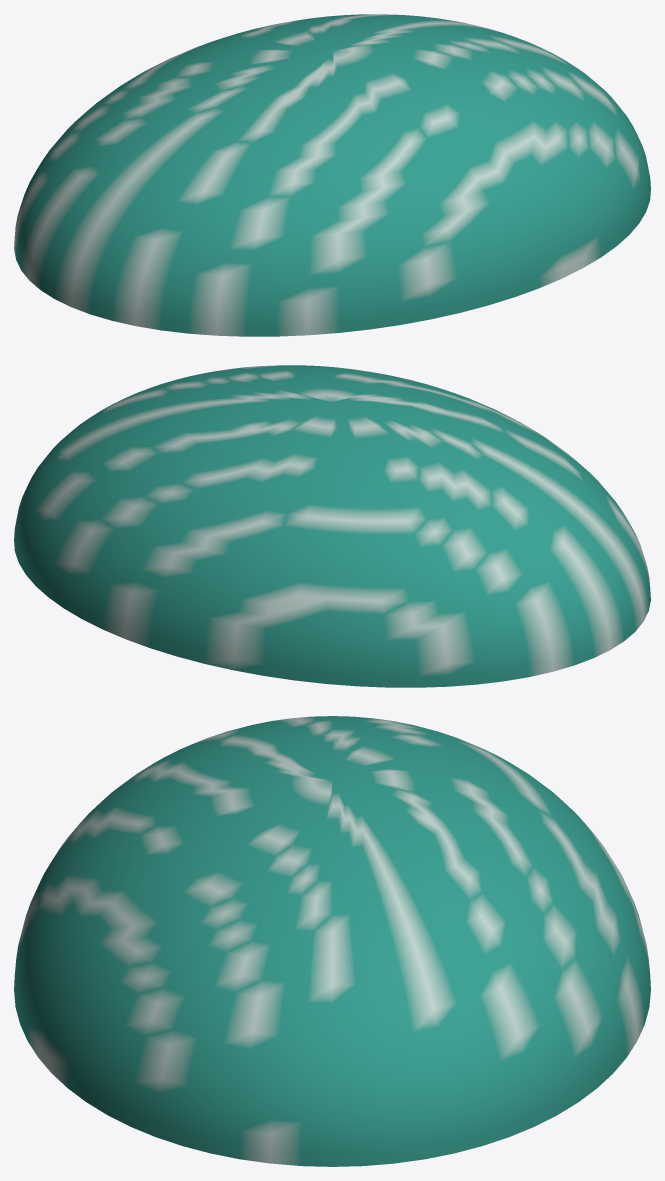
The model's file is amazonite.glb.
The picture shows the model from 3 angles, top to bottom: view 1: azimuth 30°, elevation 25°; view 2: azimuth 150°, elevation 25°; view 3: azimuth 270°, elevation 25°; orthographic projection. The views are drawn at different scales.
Parts seen in each view (by area): view 1: amazonite; view 2: amazonite; view 3: amazonite.
Boxes of the visible parts, bbox=[...] form: amazonite: bbox=[14, 14, 650, 336]; amazonite: bbox=[14, 365, 650, 687]; amazonite: bbox=[14, 716, 650, 1166].
Bounding box in the file's own units: 0.25 × 0.0688 × 0.19.
